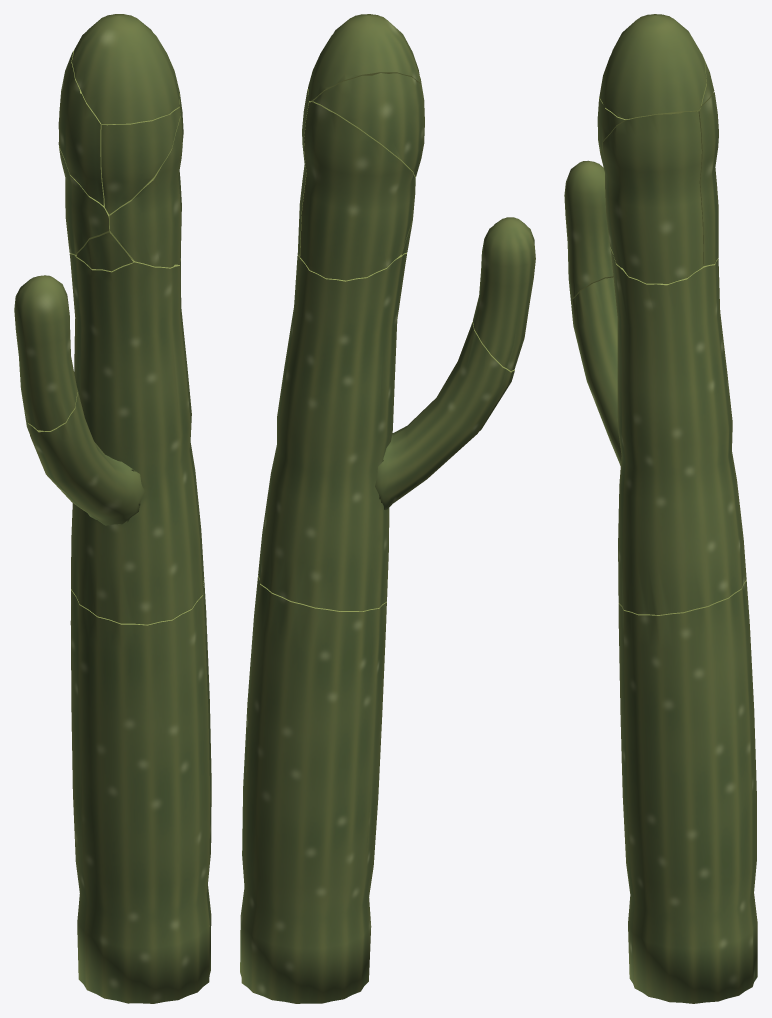
File: chaparall11_fractured.fbx
3 renders of one model, left to right at view 1: azimuth 30°, elevation 25°; view 2: azimuth 150°, elevation 25°; view 3: azimuth 270°, elevation 25°, orthographic. The views are drawn at different scales.
Parts seen in each view (by area): view 1: chaparall_1_cell, chaparall_1_cell.002, chaparall_1_cell.001, chaparall_1_cell.004, chaparall_1_cell.008, chaparall_1_cell.003, chaparall_1_cell.007, chaparall_1_cell.006, chaparall_1_cell.005, chaparall_1_cell.009; view 2: chaparall_1_cell, chaparall_1_cell.002, chaparall_1_cell.005, chaparall_1_cell.008, chaparall_1_cell.004, chaparall_1_cell.006, chaparall_1_cell.001; view 3: chaparall_1_cell, chaparall_1_cell.002, chaparall_1_cell.003, chaparall_1_cell.001, chaparall_1_cell.008, chaparall_1_cell.004, chaparall_1_cell.005, chaparall_1_cell.007.
Part boxes in pixels (x1,y1,x2,y2): chaparall_1_cell: (70, 579, 211, 1003); chaparall_1_cell.002: (69, 253, 204, 624); chaparall_1_cell.001: (72, 14, 179, 124); chaparall_1_cell.004: (14, 275, 77, 430); chaparall_1_cell.008: (24, 392, 145, 525); chaparall_1_cell.003: (109, 93, 183, 267); chaparall_1_cell.007: (101, 107, 180, 214); chaparall_1_cell.006: (58, 50, 104, 205); chaparall_1_cell.005: (59, 146, 110, 254); chaparall_1_cell.009: (76, 232, 132, 271); chaparall_1_cell: (240, 576, 386, 1003); chaparall_1_cell.002: (258, 252, 406, 611); chaparall_1_cell.005: (300, 102, 415, 280); chaparall_1_cell.008: (375, 322, 514, 510); chaparall_1_cell.004: (473, 217, 535, 371); chaparall_1_cell.006: (313, 73, 424, 177); chaparall_1_cell.001: (308, 14, 421, 102); chaparall_1_cell: (618, 580, 757, 1003); chaparall_1_cell.002: (610, 247, 746, 614); chaparall_1_cell.003: (601, 111, 703, 283); chaparall_1_cell.001: (599, 14, 706, 119); chaparall_1_cell.008: (571, 277, 621, 465); chaparall_1_cell.004: (564, 160, 613, 304); chaparall_1_cell.005: (696, 92, 718, 265); chaparall_1_cell.007: (597, 97, 629, 155).
Size of the model in its own units: 56.54 by 223 by 41.5.
